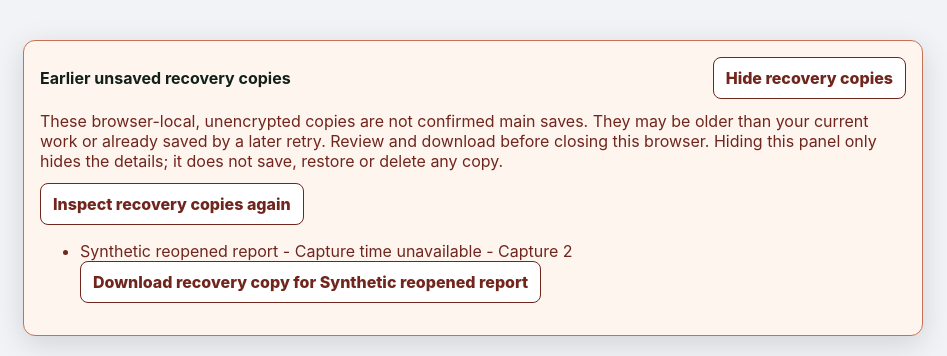
Test case: cleans up a failed download click without removing recovery copies or claiming success
Click the button "Download recovery copy for Synthetic reopened report" at (311, 282), box [80,261,541,303]
Wait 1000 ms
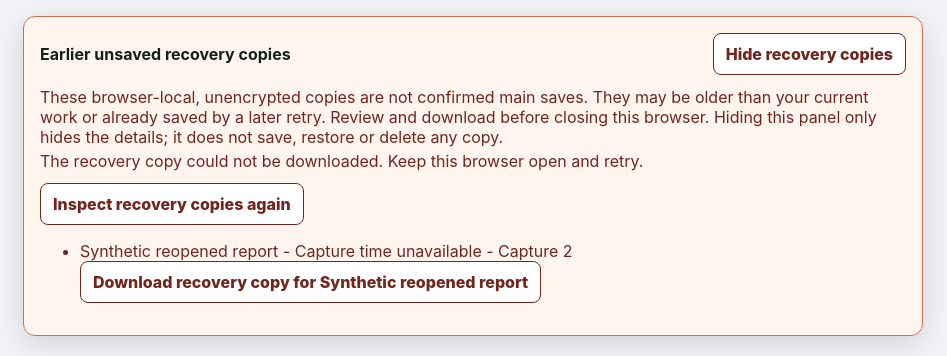
expect the text "Synthetic reopened report" is shown: met, box [80,241,278,261]
expect the text "could not be downloaded" is shown: met, box [40,151,643,171]
